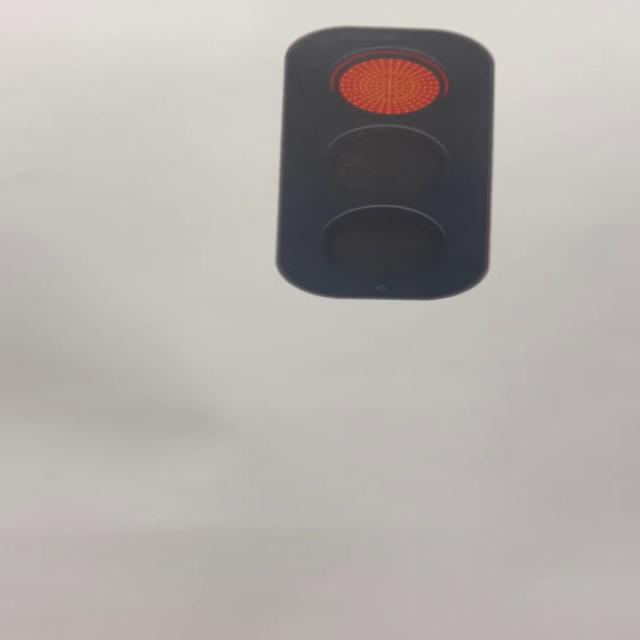red: (280, 29, 491, 301)
